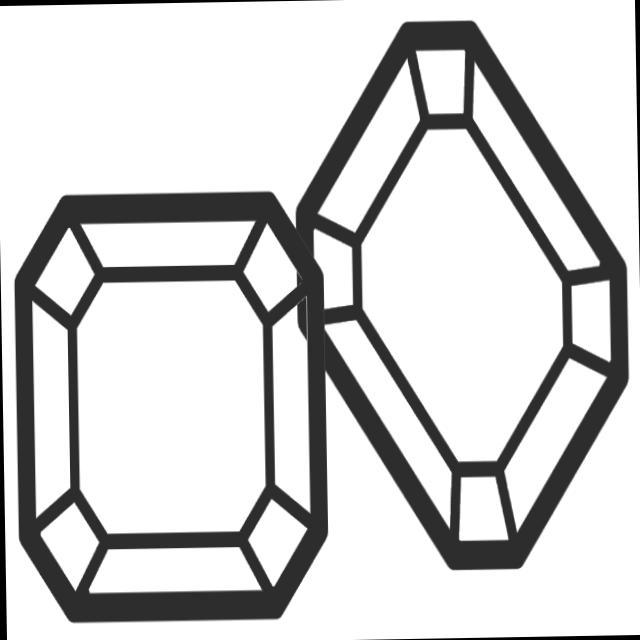emerald: (286, 11, 640, 580), (5, 172, 336, 637)
